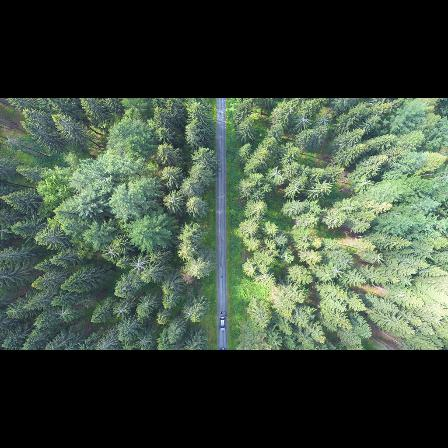Sick: (129, 254, 152, 277), (55, 303, 74, 326), (113, 302, 134, 318), (315, 110, 331, 130), (295, 112, 312, 130), (181, 306, 200, 322), (103, 243, 119, 260), (330, 264, 343, 278)
